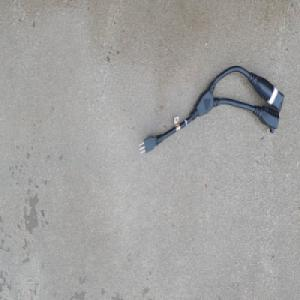Wire: (137, 63, 284, 155)
